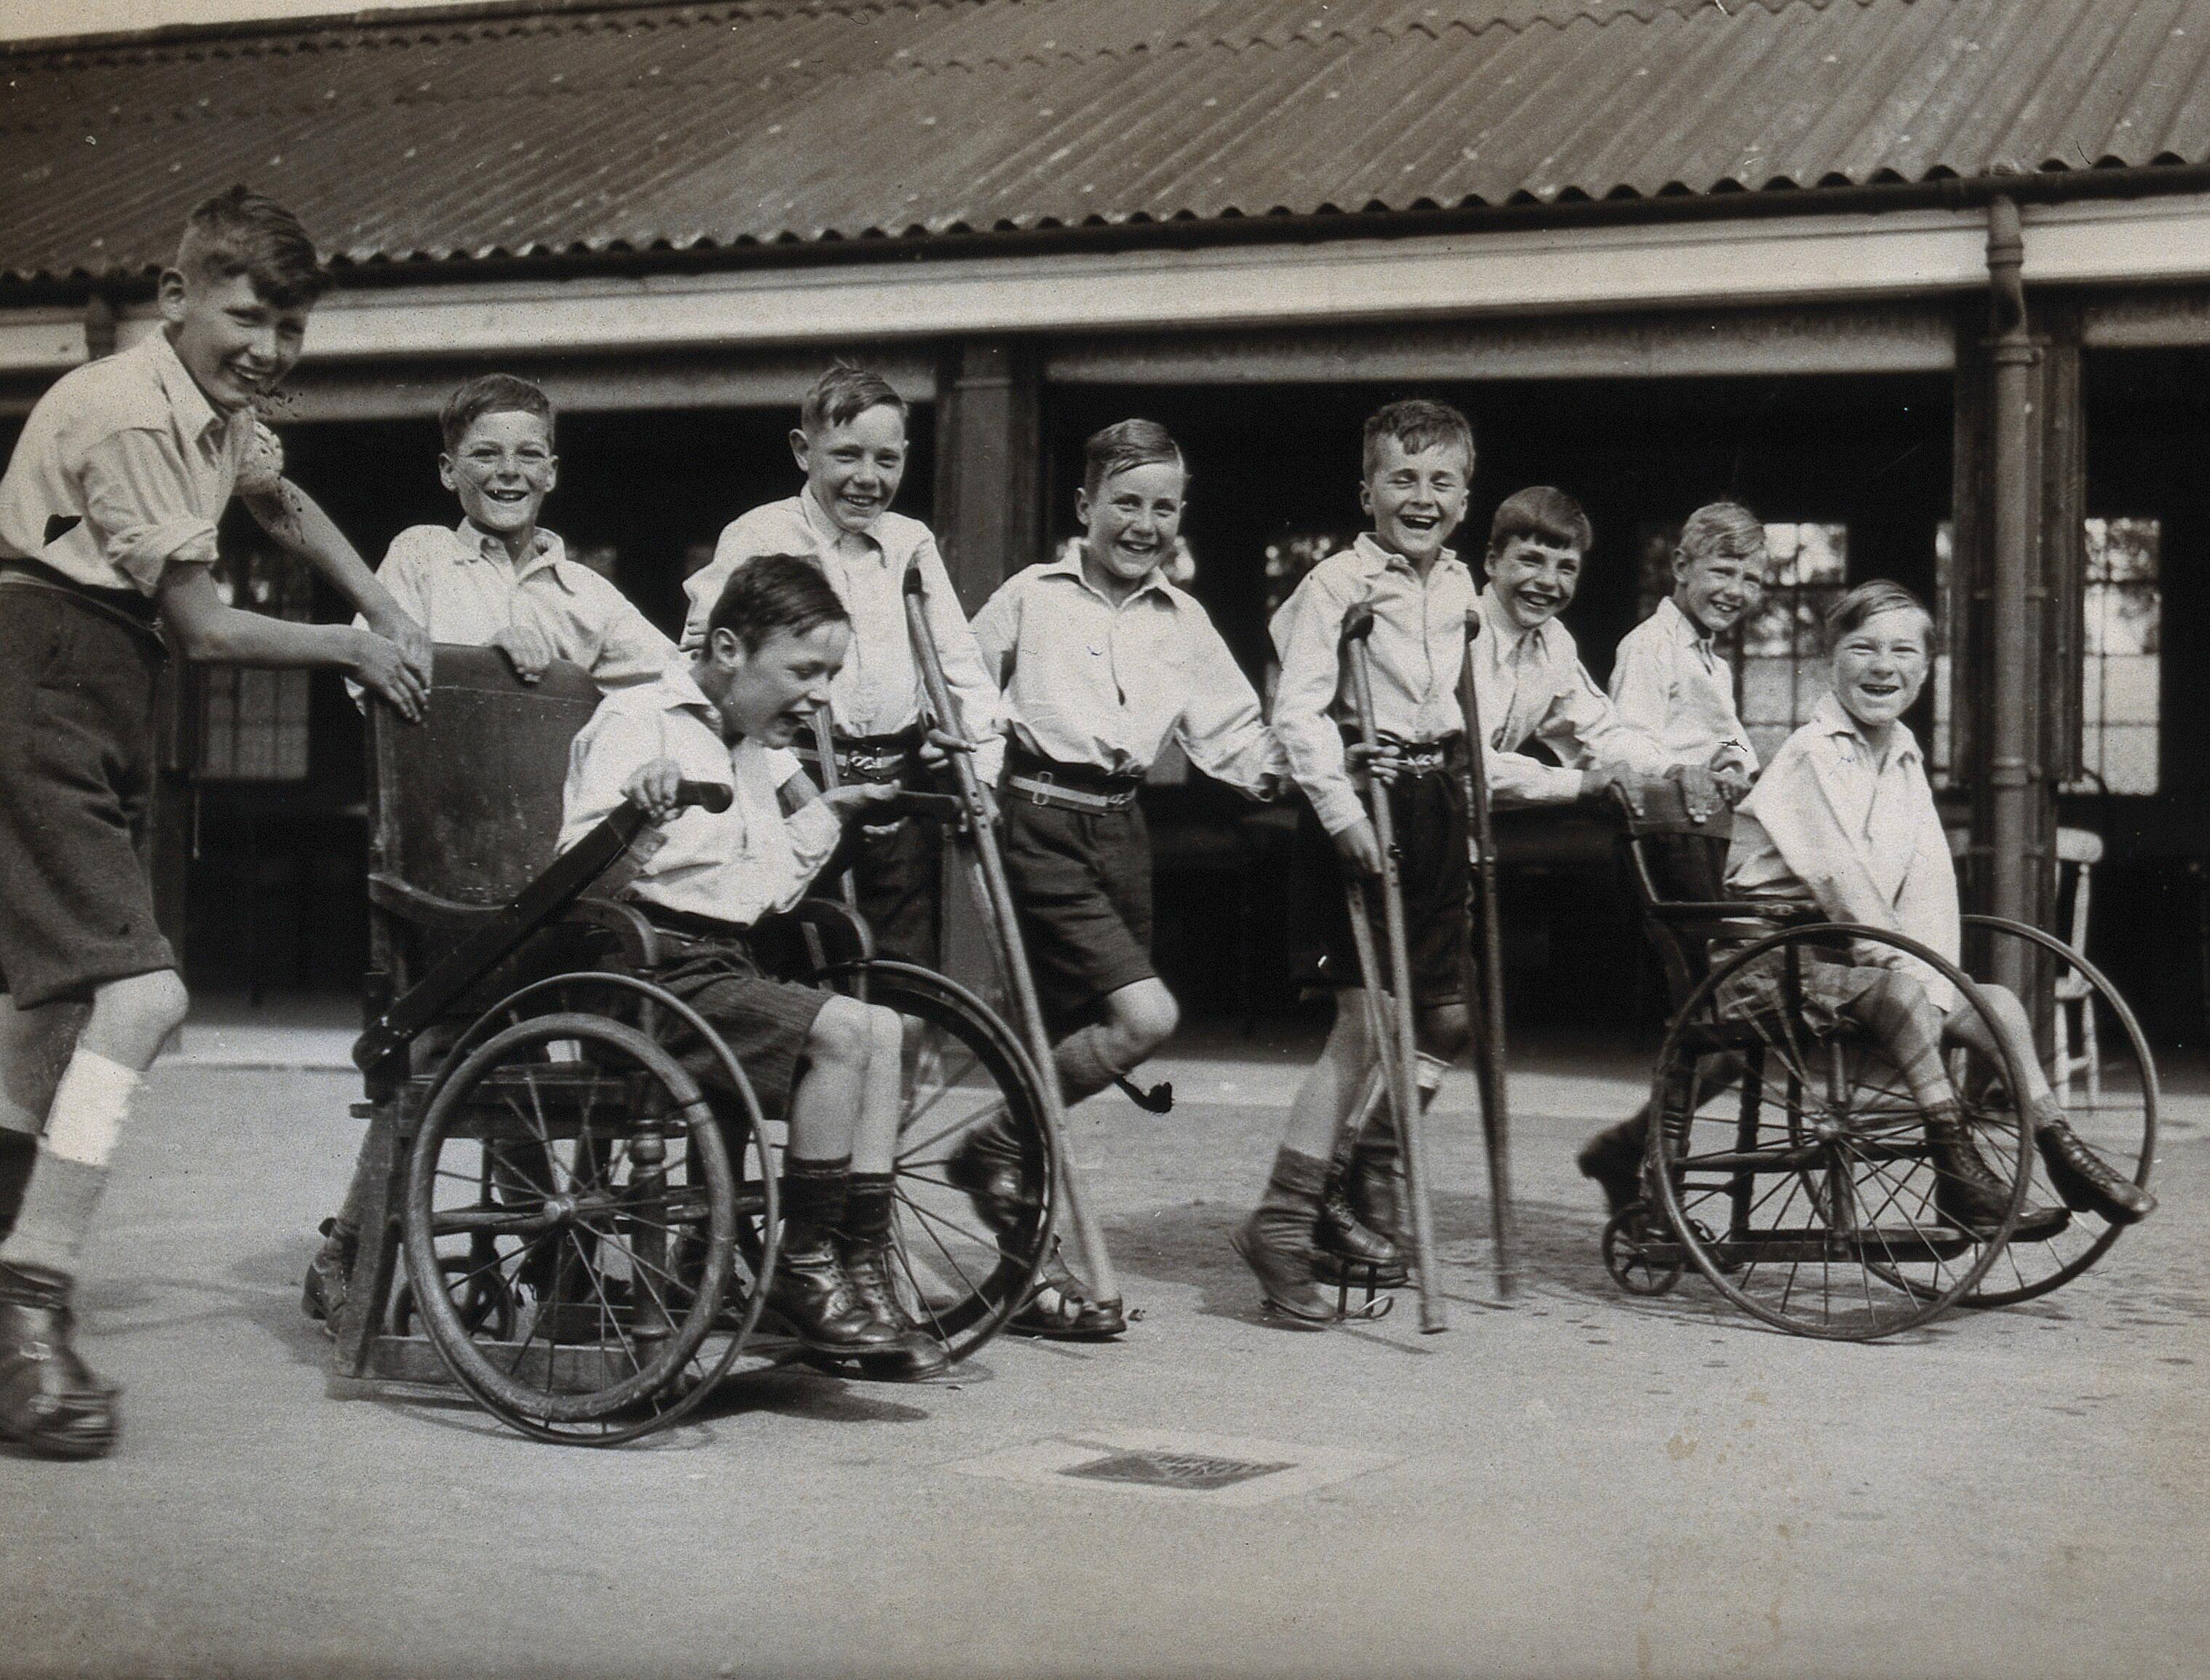crutches: (1229, 397, 1529, 1332)
wheelchair: (1615, 577, 2157, 1338)
